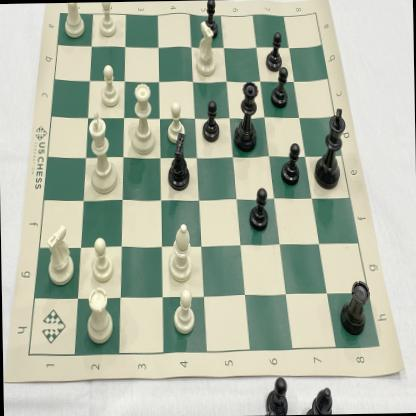bishop: (164, 218, 196, 285)
king: (312, 102, 348, 193), (84, 108, 119, 196)
knight: (42, 216, 76, 288), (162, 132, 196, 195)
pawn: (170, 285, 198, 337), (244, 183, 271, 235), (86, 234, 115, 282), (268, 65, 293, 113), (278, 140, 302, 190), (96, 62, 122, 108), (198, 98, 223, 144), (261, 28, 284, 74), (196, 0, 221, 41), (94, 2, 120, 40), (166, 100, 186, 145)
queen: (230, 76, 264, 155), (127, 78, 158, 156)
rook: (335, 276, 373, 340), (80, 284, 118, 346), (58, 2, 86, 42)
